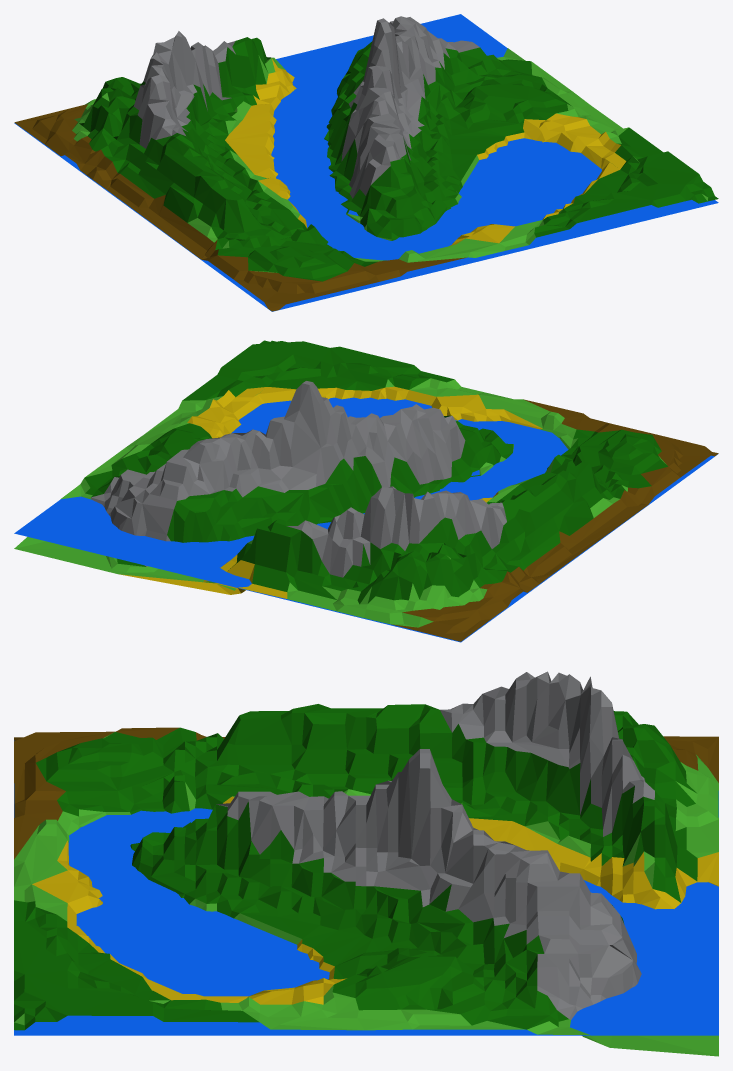
The model's file is map.glb.
3 renders of one model, top to bottom at view 1: azimuth 30°, elevation 25°; view 2: azimuth 150°, elevation 25°; view 3: azimuth 270°, elevation 25°, orthographic. The views are drawn at different scales.
Parts seen in each view (by area): view 1: Plane, Plane.001; view 2: Plane, Plane.001; view 3: Plane, Plane.001.
Part boxes in pixels (<box>): Plane: <box>14,16,718,311</box>; Plane.001: <box>14,14,718,311</box>; Plane: <box>14,340,718,641</box>; Plane.001: <box>14,397,717,642</box>; Plane: <box>14,671,718,1056</box>; Plane.001: <box>14,740,718,1035</box>.
Bounding box in the file's own units: 10004 × 3130 × 10003.
